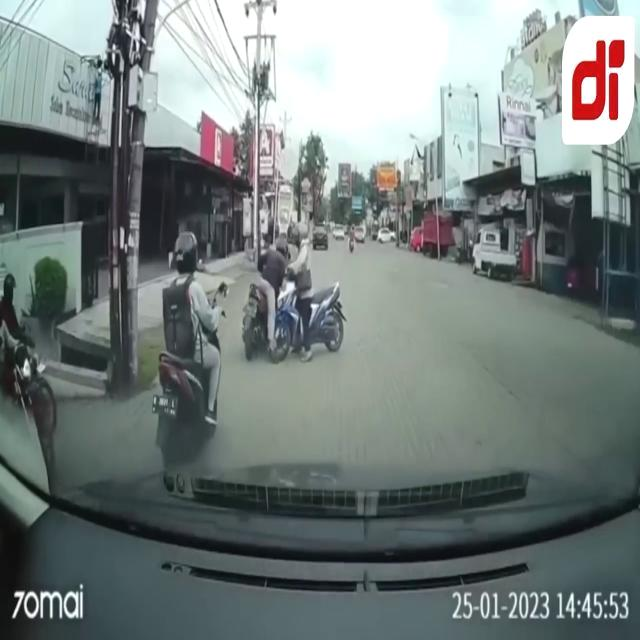accident: (240, 221, 348, 365)
non-accident: (348, 225, 366, 253)
